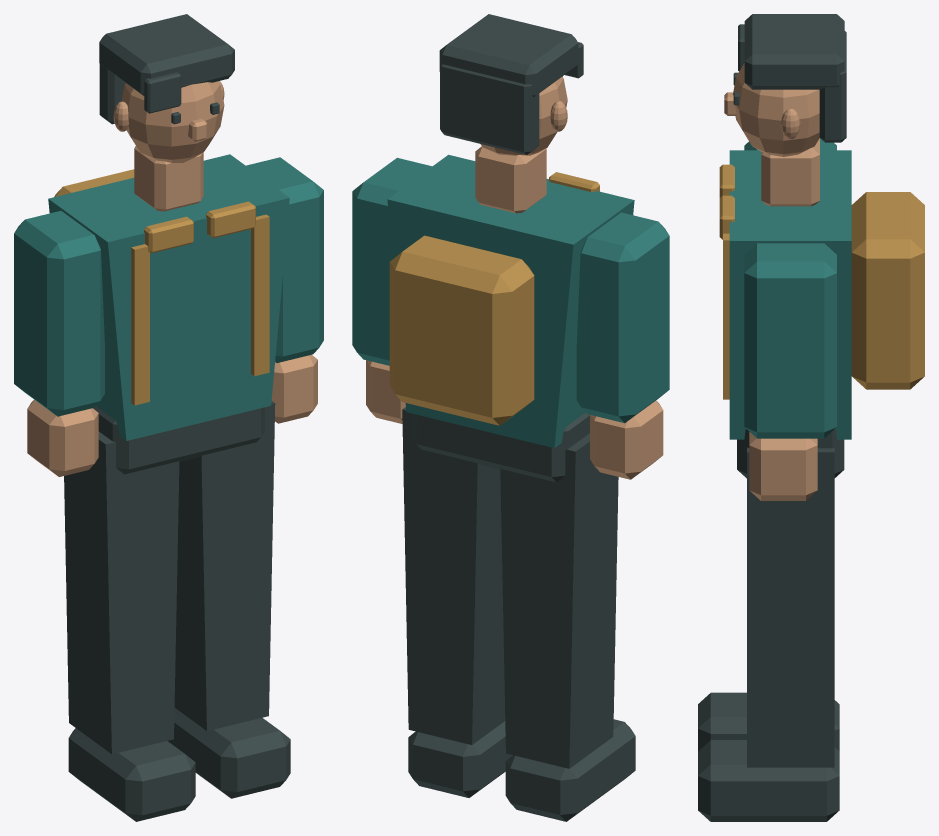
The model's file is hero.glb.
3 renders of one model, left to right at view 1: azimuth 30°, elevation 25°; view 2: azimuth 150°, elevation 25°; view 3: azimuth 270°, elevation 25°, orthographic. The views are drawn at different scales.
Visible parts, largest first — view 1: batch-right-leg-dark, batch-hero-root-teal, batch-left-leg-dark, batch-right-arm-teal, batch-hero-root-dark, batch-hero-root-ochre, batch-hero-root-skin, batch-left-arm-teal, batch-right-arm-skin, batch-left-arm-skin; view 2: batch-right-leg-dark, batch-left-leg-dark, batch-hero-root-ochre, batch-hero-root-teal, batch-hero-root-dark, batch-right-arm-teal, batch-left-arm-teal, batch-hero-root-skin, batch-right-arm-skin, batch-left-arm-skin; view 3: batch-left-leg-dark, batch-left-arm-teal, batch-hero-root-ochre, batch-hero-root-teal, batch-hero-root-dark, batch-hero-root-skin, batch-left-arm-skin, batch-right-leg-dark.
Part boxes in pixels (<box>): batch-right-leg-dark: <box>64,431,195,821</box>; batch-hero-root-teal: <box>48,154,289,440</box>; batch-left-leg-dark: <box>168,401,290,798</box>; batch-right-arm-teal: <box>14,211,104,416</box>; batch-hero-root-dark: <box>93,14,264,474</box>; batch-hero-root-ochre: <box>54,169,269,405</box>; batch-hero-root-skin: <box>113,81,224,211</box>; batch-left-arm-teal: <box>246,157,323,362</box>; batch-right-arm-skin: <box>27,399,98,476</box>; batch-left-arm-skin: <box>271,354,317,423</box>; batch-right-leg-dark: <box>500,433,635,821</box>; batch-left-leg-dark: <box>402,407,512,797</box>; batch-hero-root-ochre: <box>389,172,599,425</box>; batch-hero-root-teal: <box>387,154,634,448</box>; batch-hero-root-dark: <box>413,14,589,482</box>; batch-right-arm-teal: <box>576,212,669,423</box>; batch-left-arm-teal: <box>352,157,431,365</box>; batch-hero-root-skin: <box>475,76,567,213</box>; batch-right-arm-skin: <box>590,400,663,479</box>; batch-left-arm-skin: <box>366,360,405,423</box>; batch-left-leg-dark: <box>698,447,839,821</box>; batch-left-arm-teal: <box>744,243,836,438</box>; batch-hero-root-ochre: <box>719,164,924,399</box>; batch-hero-root-teal: <box>729,150,851,439</box>; batch-hero-root-dark: <box>733,14,846,478</box>; batch-hero-root-skin: <box>724,63,819,206</box>; batch-left-arm-skin: <box>749,432,817,500</box>; batch-right-leg-dark: <box>698,692,839,751</box>.
Size of the model in its own units: 0.67 by 1.7 by 0.465.
